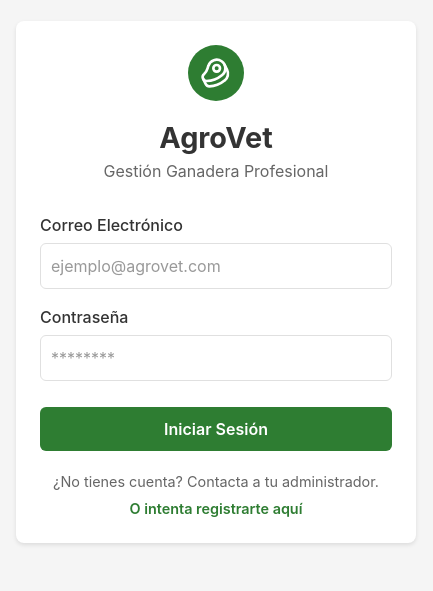
Scenario: <LogIn /> — Mock + Happy Path + Error Handling › muestra el mensaje de error de la API cuando retorna { error: string } (error handling)
In the field labelled "Correo Electrónico": (216,266) [40,243,392,289], type "wrong@vet.com"
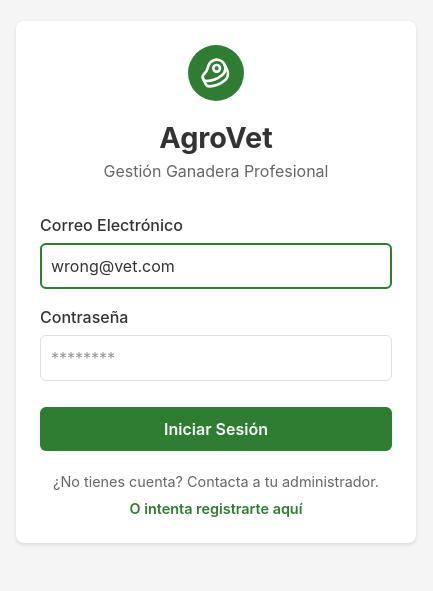
In the password field labelled "Contraseña": (216,358) [40,335,392,381], type "badpassword"
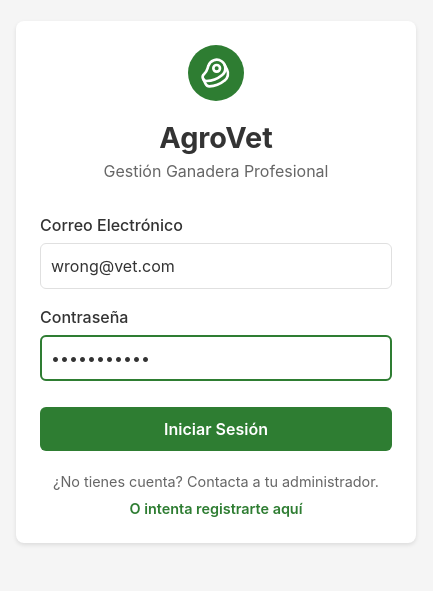
Submit the form from the button "Iniciar Sesión", box [40,407,392,451]
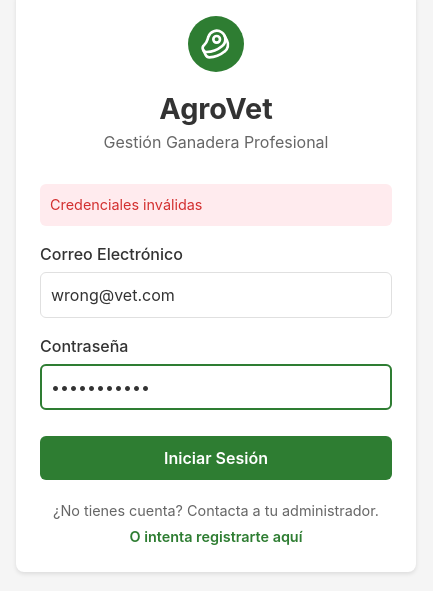
Now the text "Credenciales inválidas" is shown, box [40,184,392,226]
